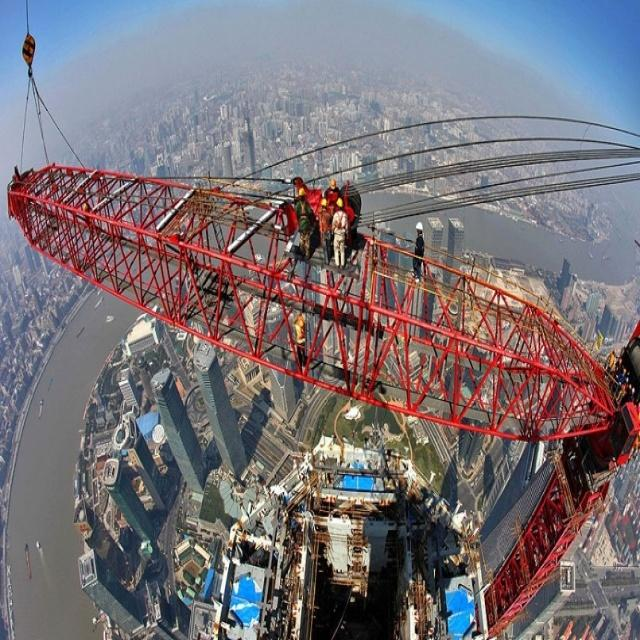helmet: (415, 295, 423, 312), (297, 252, 305, 268), (336, 264, 343, 281), (330, 238, 337, 254), (298, 422, 305, 438), (321, 265, 327, 280)
